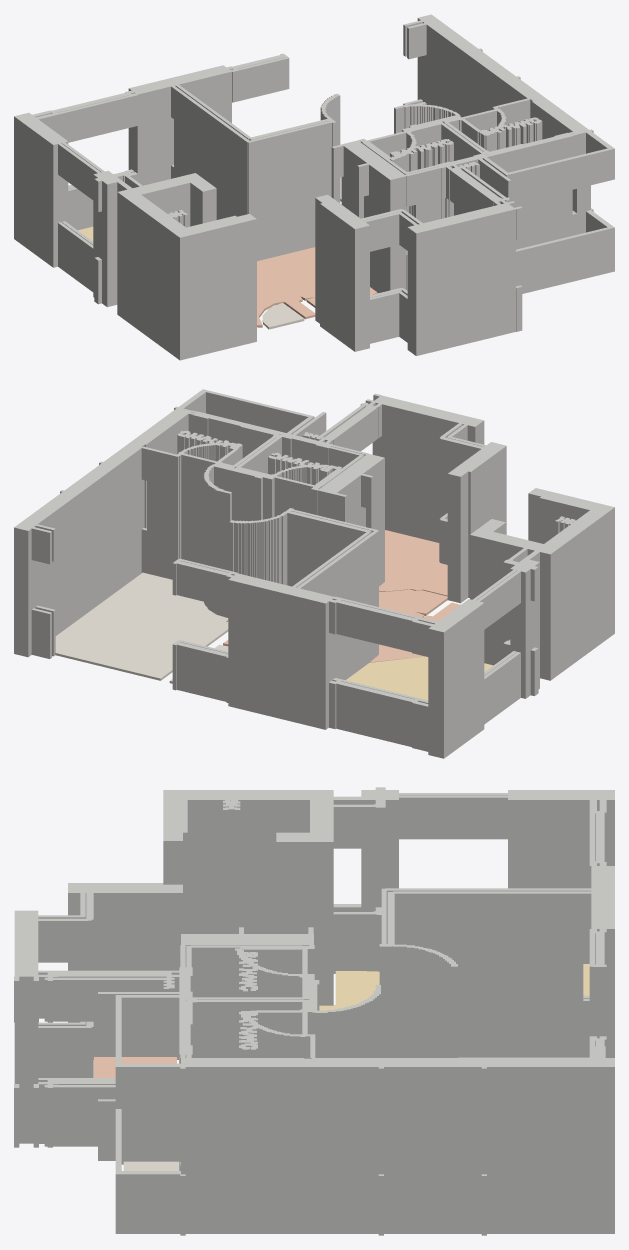
3 renders of one model, top to bottom at view 1: azimuth 30°, elevation 25°; view 2: azimuth 150°, elevation 25°; view 3: azimuth 270°, elevation 25°, orthographic. The views are drawn at different scales.
Parts seen in each view (by area): view 1: walls, room:kitchen:1, room:other:11; view 2: walls, room:other:4, room:kitchen:2, room:living:0, room:kitchen:1; view 3: walls, room:living:0, room:kitchen:2.
Part boxes in pixels (x1,y1,x2,y2): walls: [14, 14, 614, 360]; room:kitchen:1: [257, 247, 377, 327]; room:other:11: [262, 303, 304, 329]; walls: [14, 389, 614, 758]; room:other:4: [55, 572, 228, 680]; room:kitchen:2: [379, 530, 447, 596]; room:living:0: [346, 656, 493, 700]; room:kitchen:1: [223, 589, 460, 662]; walls: [14, 787, 614, 1235]; room:living:0: [319, 964, 589, 1010]; room:kitchen:2: [94, 1057, 176, 1077].
Size of the model in its own units: 10.12 by 2.8 by 9.14.
